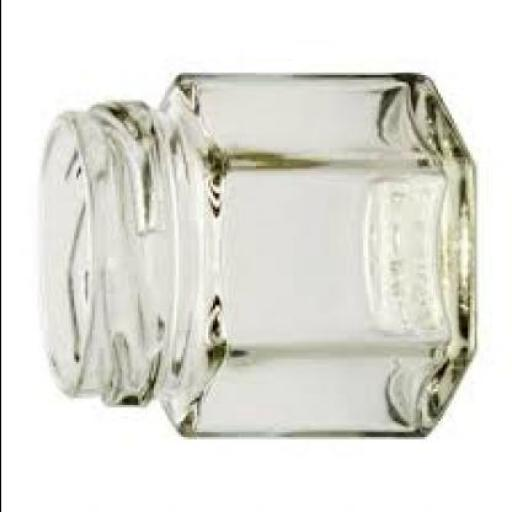glass: (34, 75, 473, 442)
